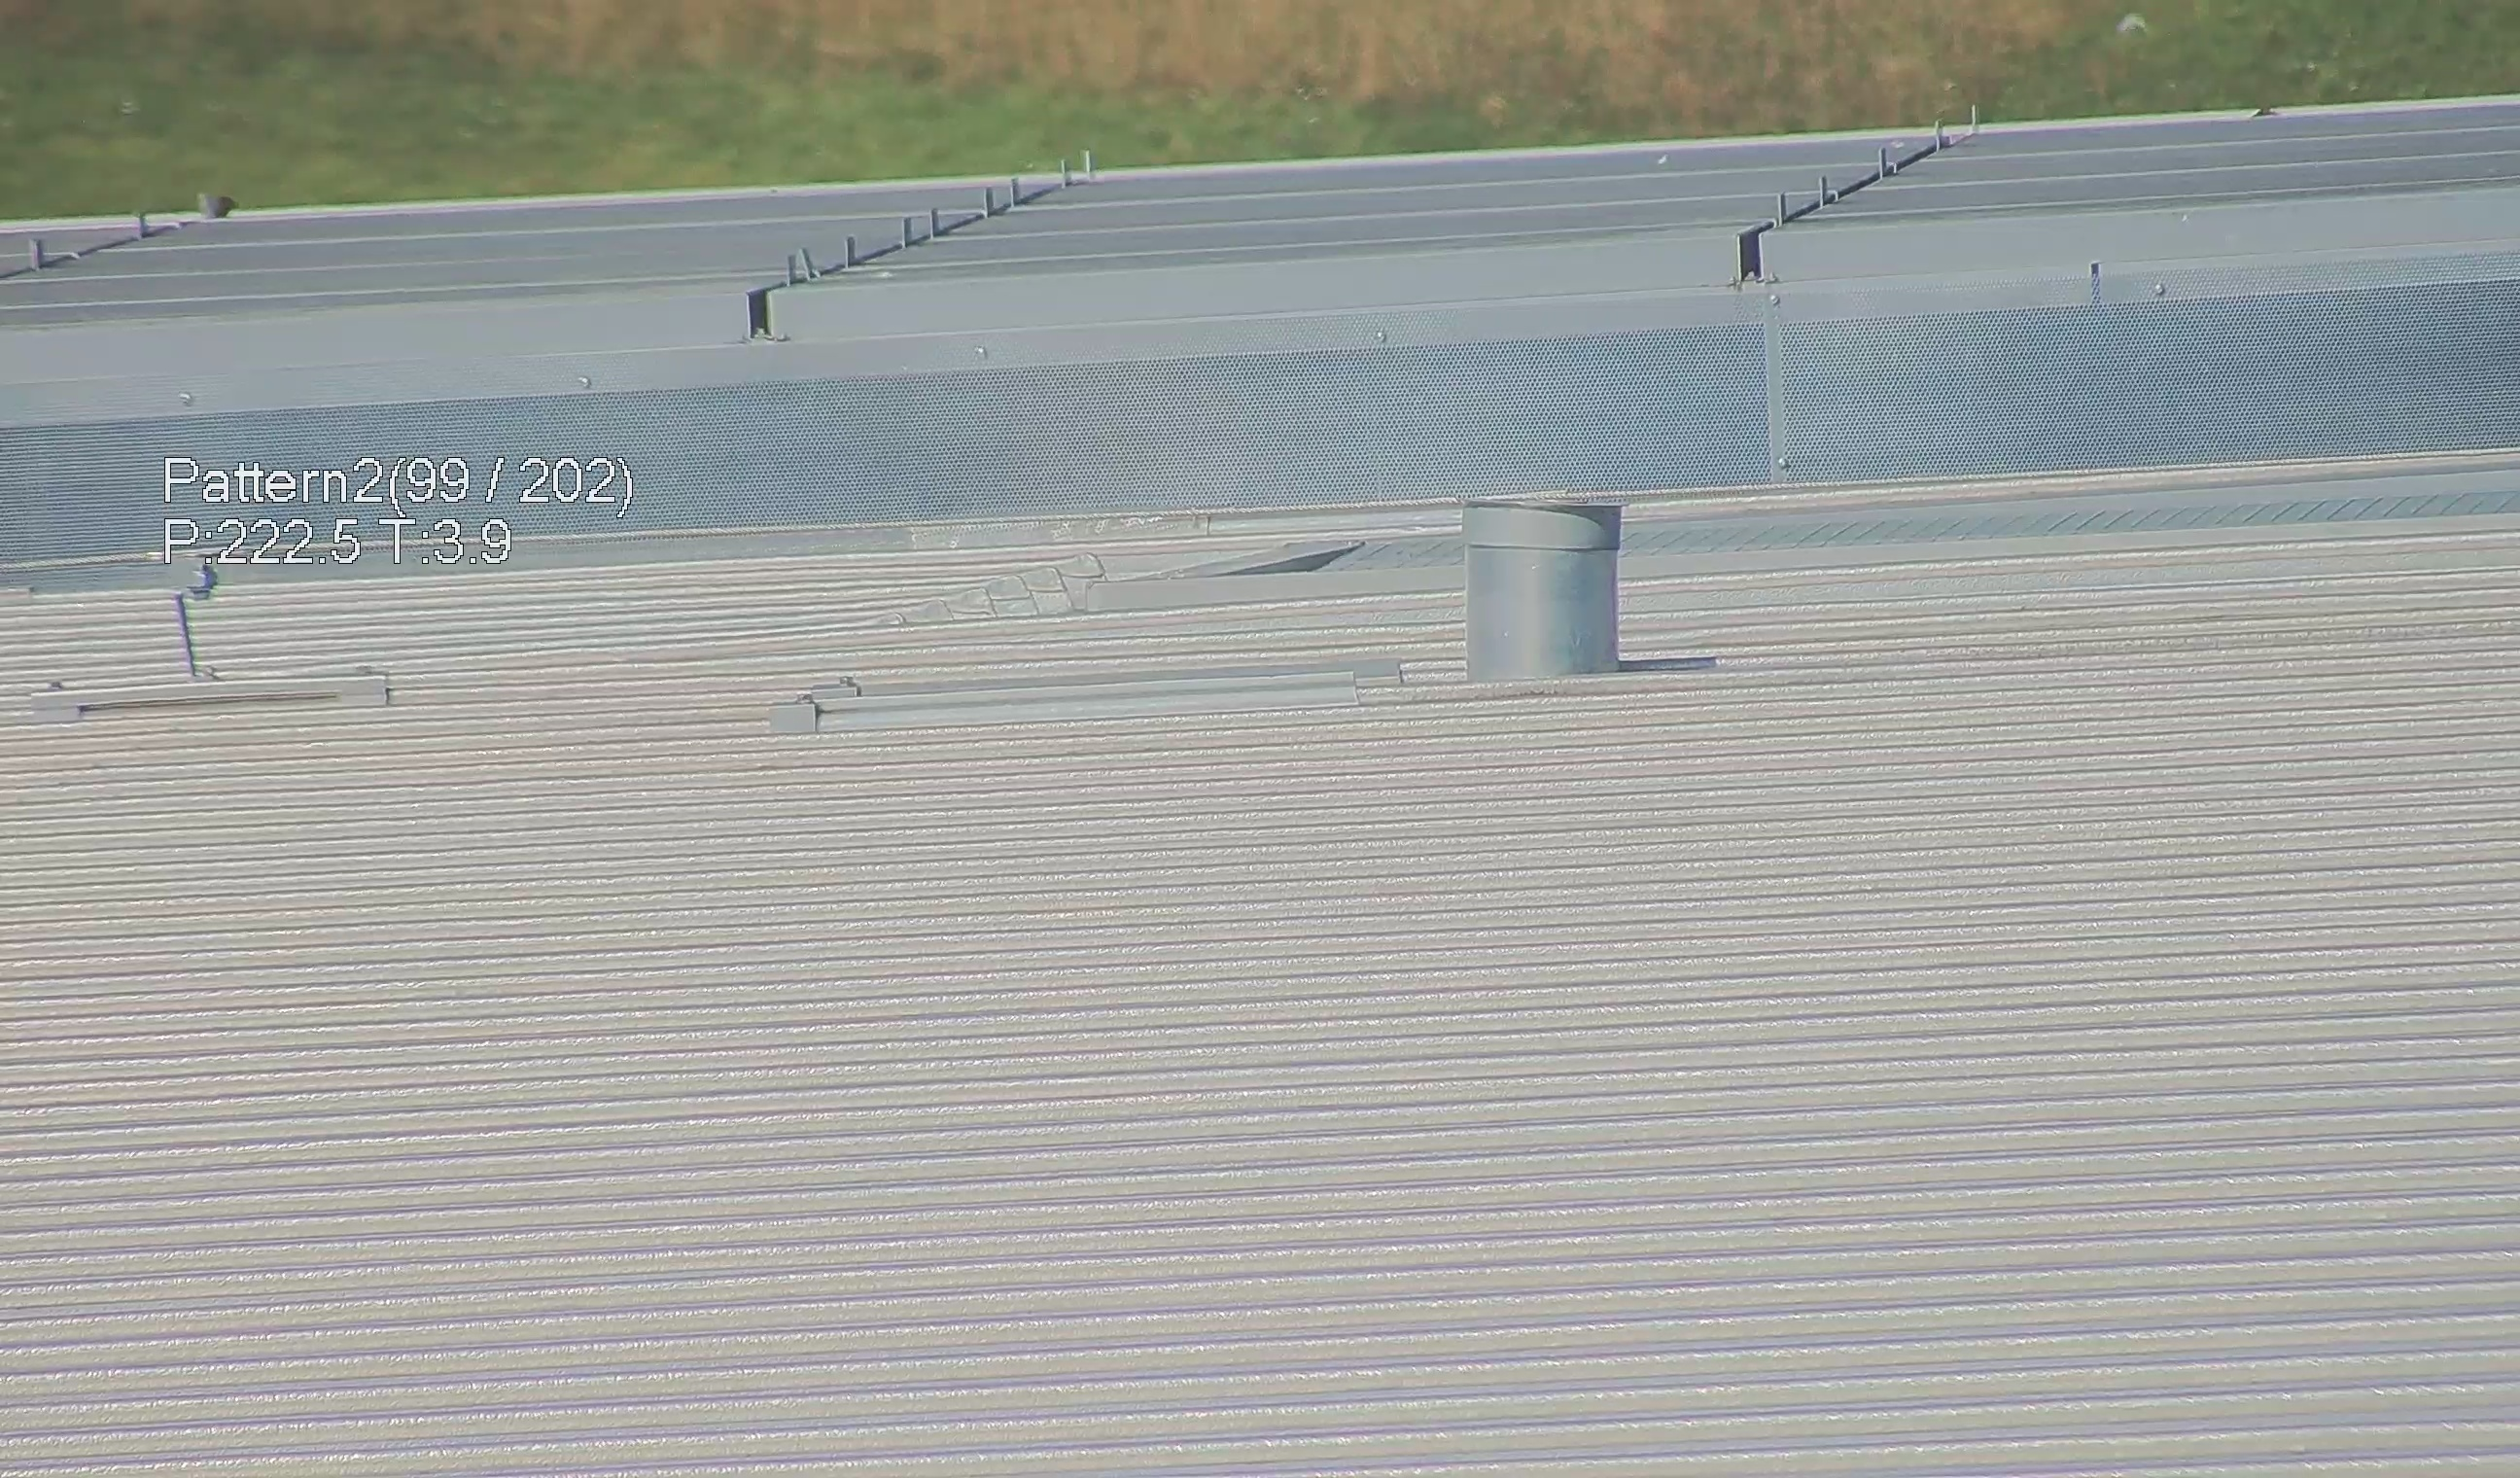Other: (190, 181, 237, 225)
